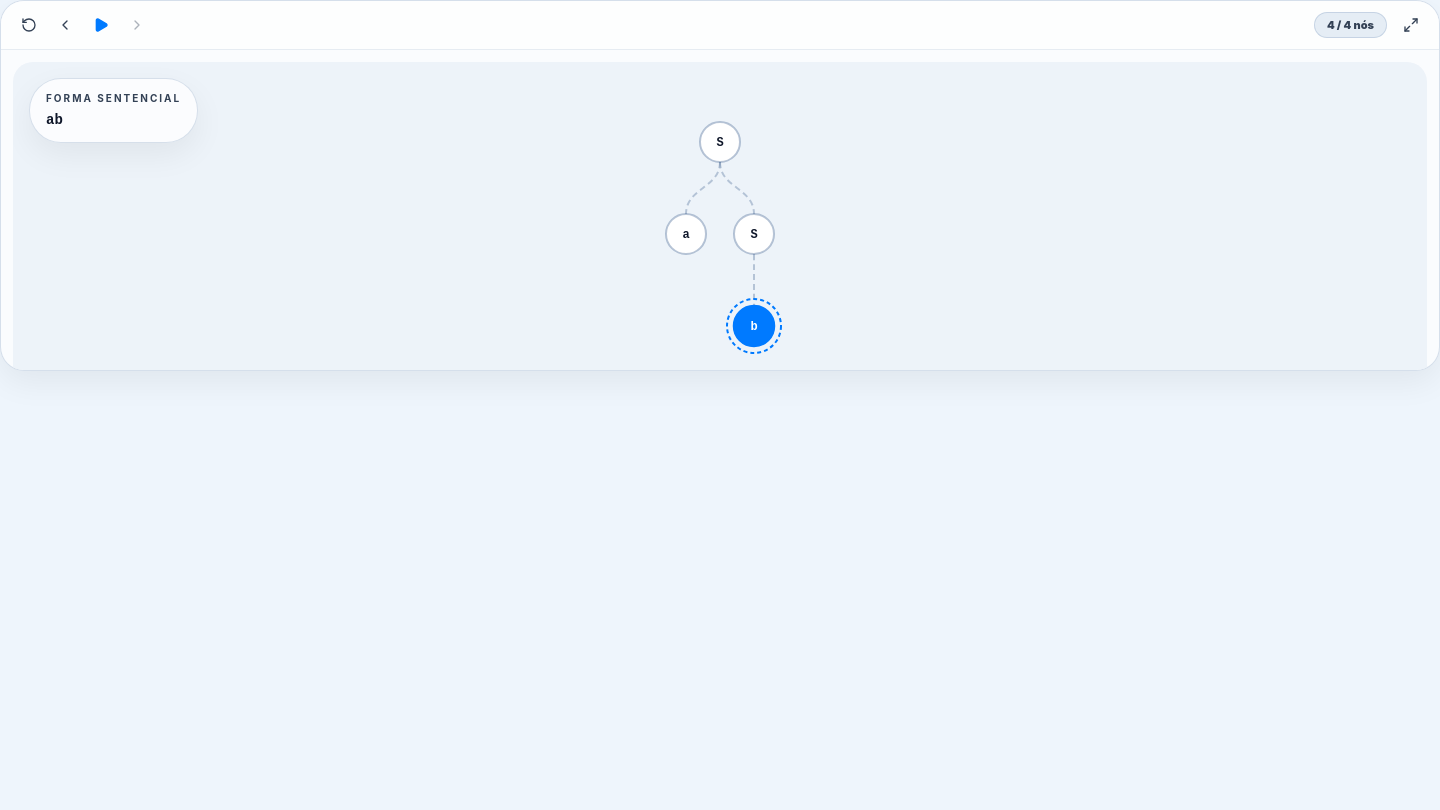
Test case: DerivationTreeVisualizer › abre o modo expandido e mantém controles manuais
Expected: the text "4 / 4 nós" is shown, [1314, 12, 1387, 38]
Click the button named "Expandir árvore de derivação". click: [1411, 25]
box: [1395, 9, 1427, 41]
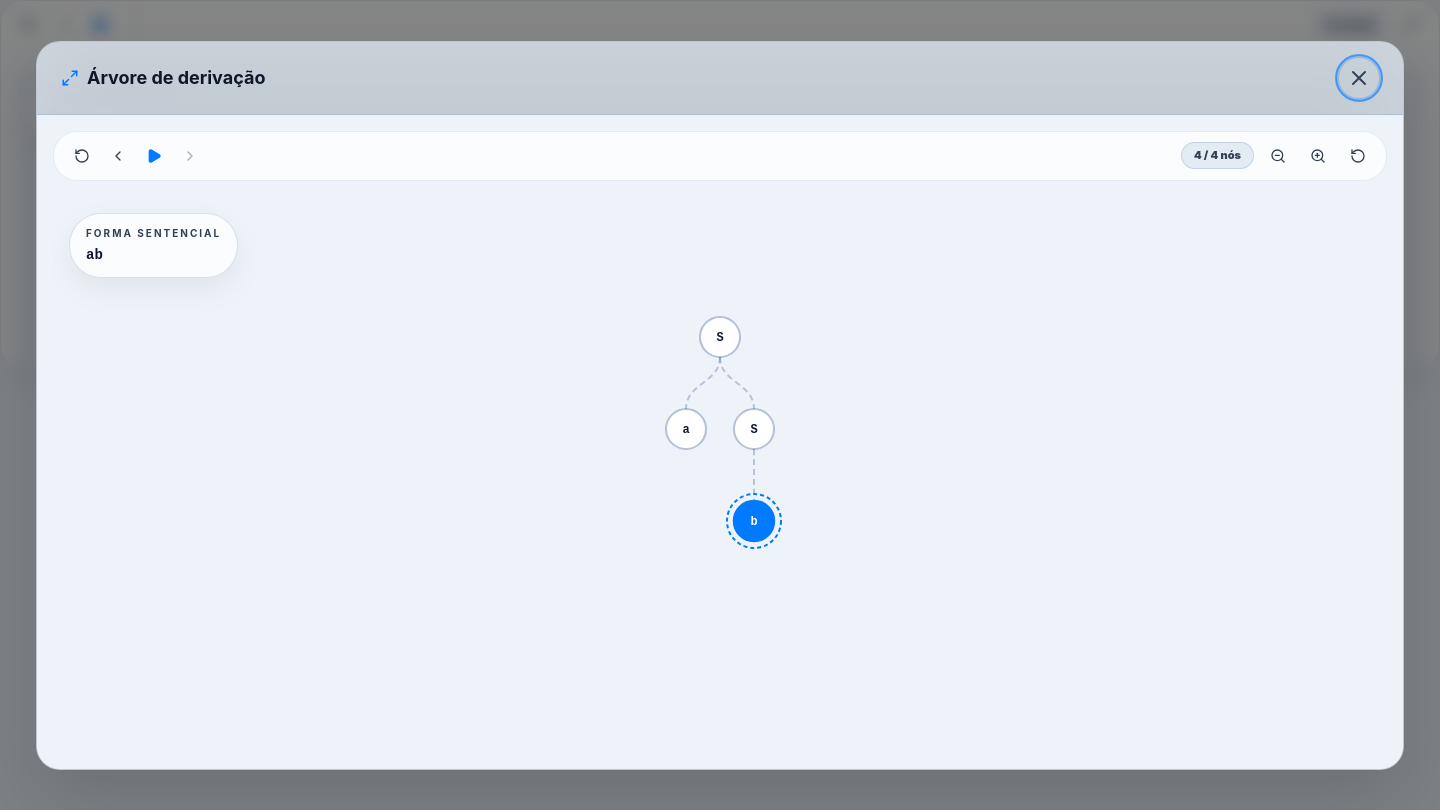
Expected: the dialog "Árvore de derivação" is shown
Expected: the button named "Aumentar zoom da árvore" is shown, [1302, 140, 1334, 172]
